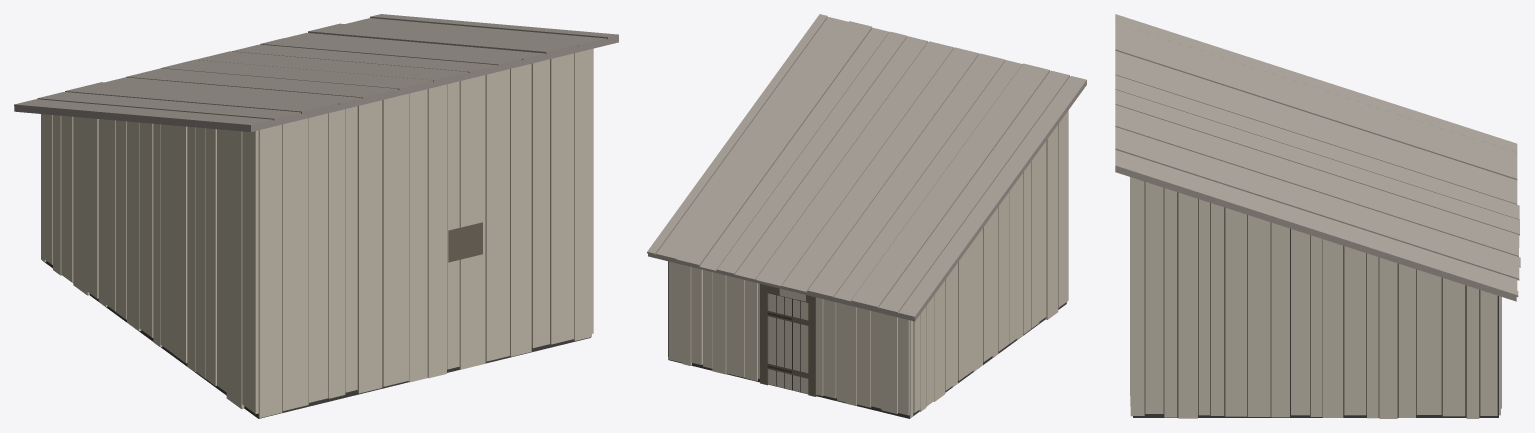
The model's file is recon_1835_blk_randolph_franklin_d2_05__inferred_1835.glb.
The picture shows the model from 3 angles, left to right: view 1: azimuth 30°, elevation 25°; view 2: azimuth 150°, elevation 25°; view 3: azimuth 270°, elevation 25°; orthographic projection. The views are drawn at different scales.
Parts seen in each view (by area): view 1: recon_1835_blk_randolph_franklin_d2_05__inferred_1835; view 2: recon_1835_blk_randolph_franklin_d2_05__inferred_1835; view 3: recon_1835_blk_randolph_franklin_d2_05__inferred_1835.
Boxes of the visible parts, x1,y1,x2,y2 form: recon_1835_blk_randolph_franklin_d2_05__inferred_1835: (14, 14, 618, 418); recon_1835_blk_randolph_franklin_d2_05__inferred_1835: (647, 14, 1086, 418); recon_1835_blk_randolph_franklin_d2_05__inferred_1835: (1115, 14, 1520, 418).
Bounding box in the file's own units: 5.66 × 4.51 × 6.37.
